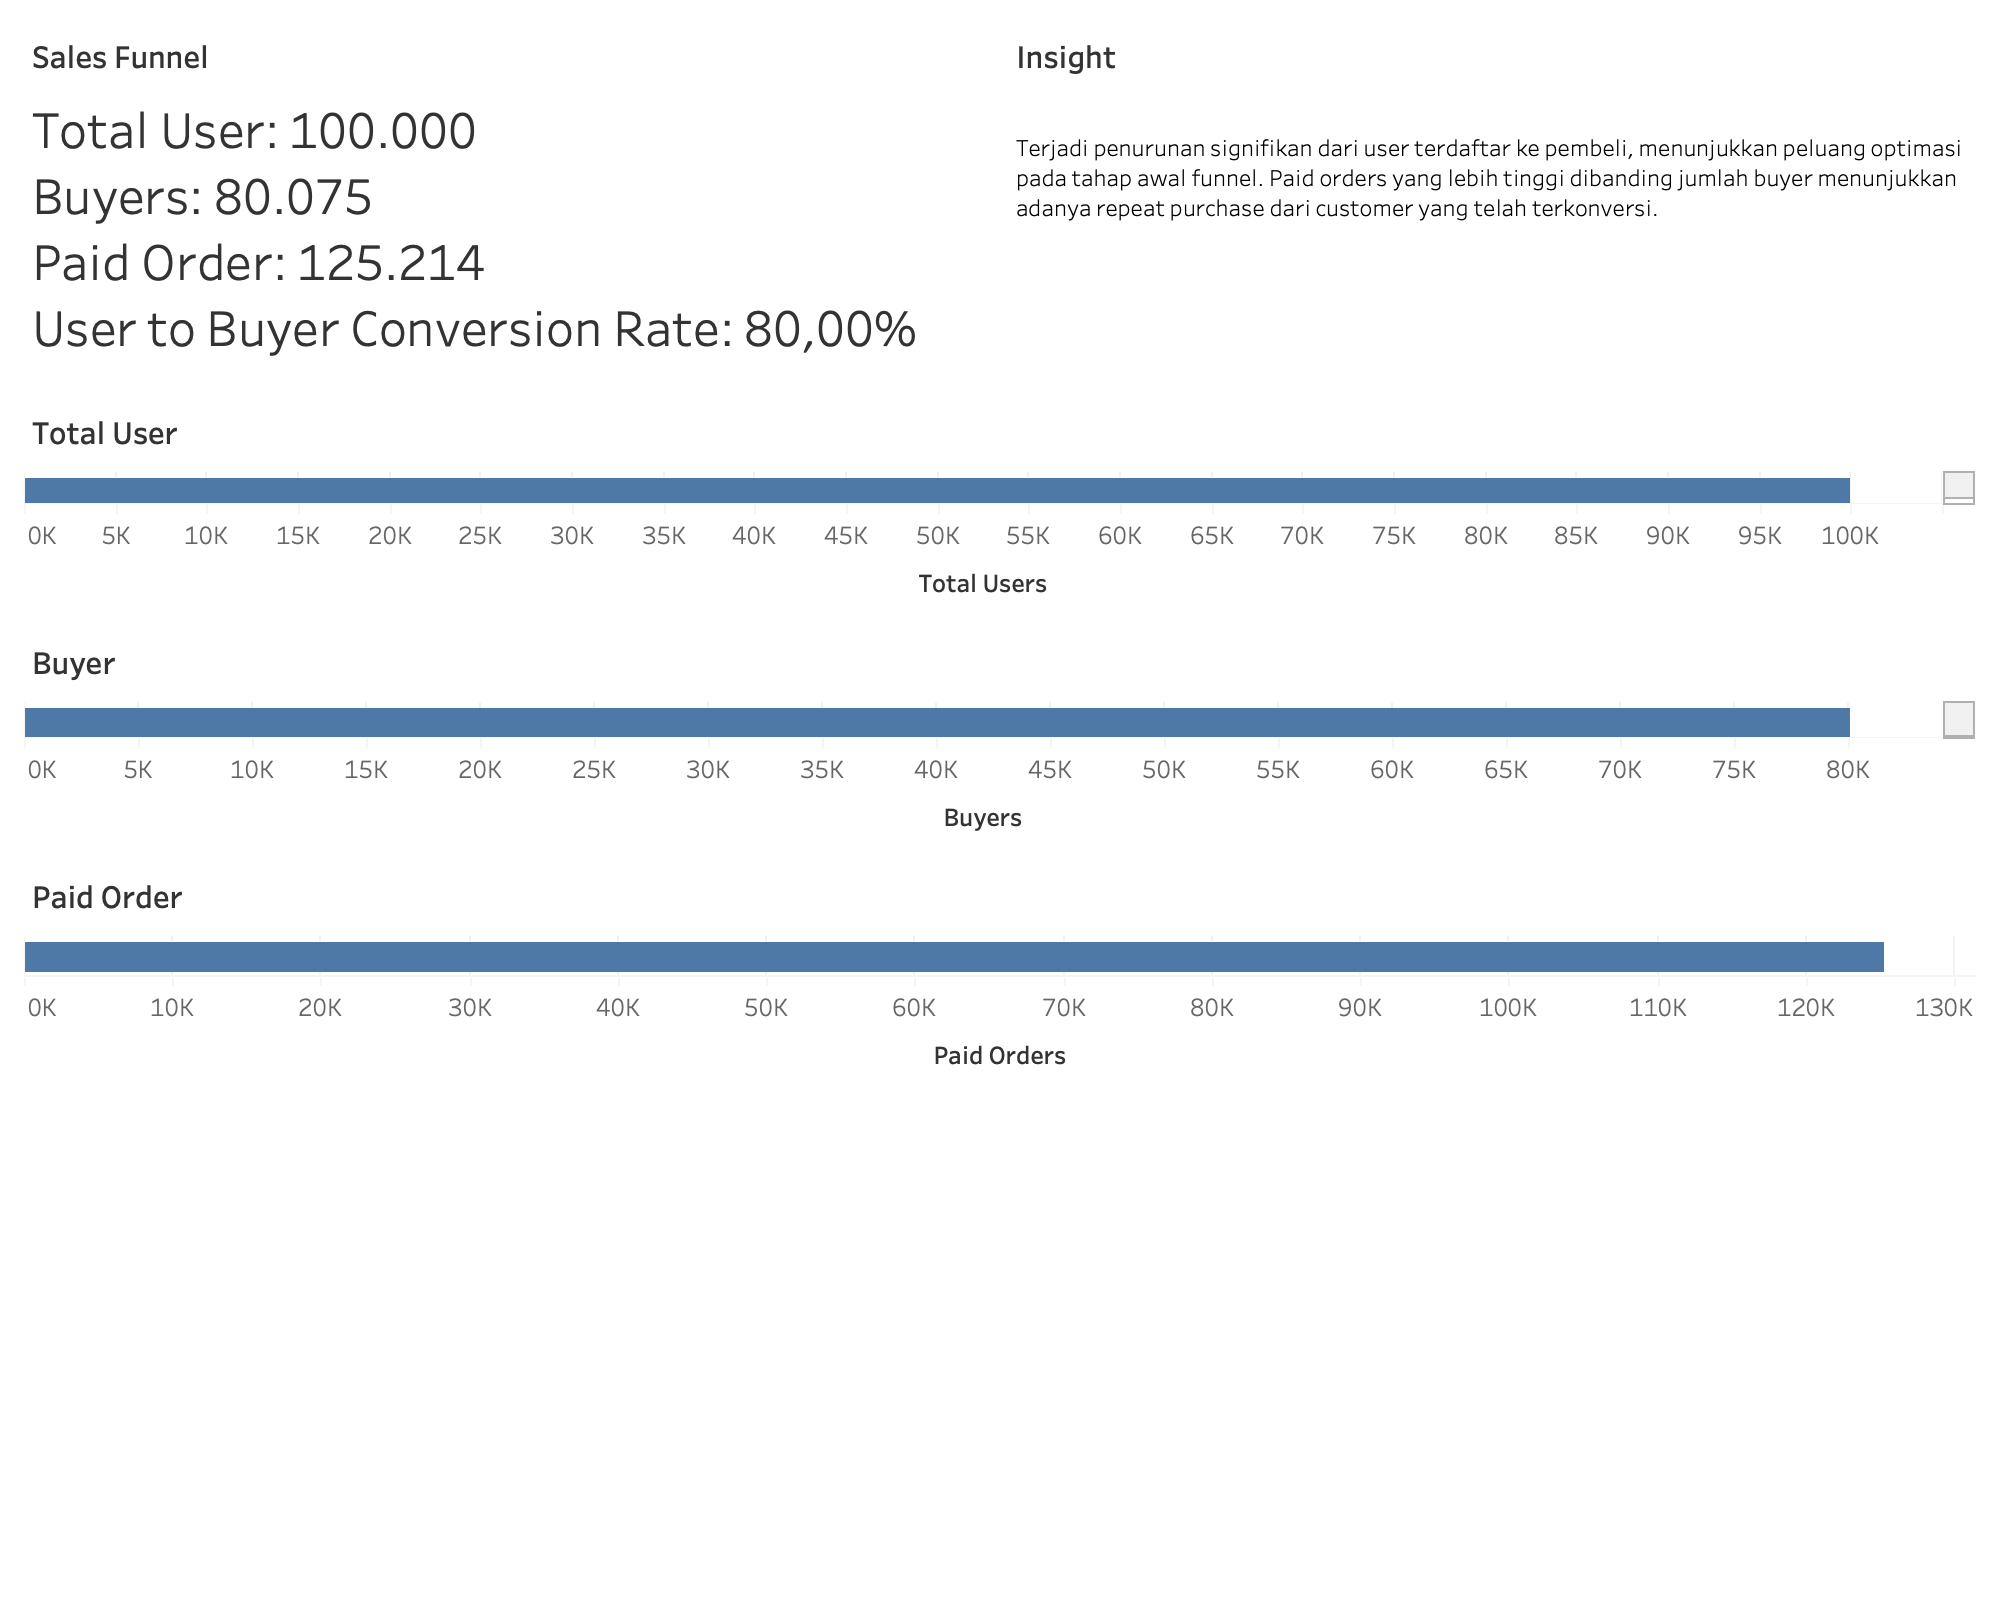

The page's visual inventory and layout, read from the dashboard file:
{"tool":"tableau","page":{"name":"Dashboard 2","canvas":[1000,1000],"units":"permille","ordinal":1},"visuals":[{"type":"worksheet","title":"Segment","mark":"Automatic","rows":["traffic_source"],"cols":["percent"],"box":[6.4,10.9,430.1,489.1]},{"type":"worksheet","title":"Cohort","mark":"Automatic","rows":["cohort_week"],"cols":["cohort_offset"],"box":[436.5,10.9,430.1,489.1]},{"type":"legend","title":"Segment","param":"[federated.124bmg214i1vba10ihwek0wdoo8z].[none:segment:nk]","box":[866.6,10.9,127.1,171.4]},{"type":"legend","title":"Cohort","param":"[federated.124bmg214i1vba10ihwek0wdoo8z].[sum:retention_rate_percent:qk]","box":[866.6,182.3,127.1,88.4]},{"type":"legend","title":"Funnel","param":"[federated.124bmg214i1vba10ihwek0wdoo8z].[none:traffic_source:nk]","box":[866.6,270.7,127.1,171.4]},{"type":"filter","title":"Funnel","param":"[federated.124bmg214i1vba10ihwek0wdoo8z].[none:event_date:qk]","box":[866.6,442.2,127.1,93.9]},{"type":"worksheet","title":"Funnel","mark":"Automatic","rows":["step_name"],"cols":["traffic_source","users_count"],"box":[6.4,500,860.2,489.1]},{"type":"filter","title":"Funnel","param":"[federated.124bmg214i1vba10ihwek0wdoo8z].[none:traffic_source:nk]","box":[866.6,536,127.1,198.6]}]}

Visuals, with their boxes on the dashboard's canvas, which has no fixed pixel size, in thousandths of its width and height (x1, y1, x2, y2). These are canvas units, not pixel positions in the 2000x1600 screenshot, which may show the page scaled, cropped or inside an application window:
"Segment" worksheet: x1=6, y1=11, x2=436, y2=500
"Cohort" worksheet: x1=436, y1=11, x2=867, y2=500
"Segment" legend: x1=867, y1=11, x2=994, y2=182
"Cohort" legend: x1=867, y1=182, x2=994, y2=271
"Funnel" legend: x1=867, y1=271, x2=994, y2=442
"Funnel" filter: x1=867, y1=442, x2=994, y2=536
"Funnel" worksheet: x1=6, y1=500, x2=867, y2=989
"Funnel" filter: x1=867, y1=536, x2=994, y2=735
